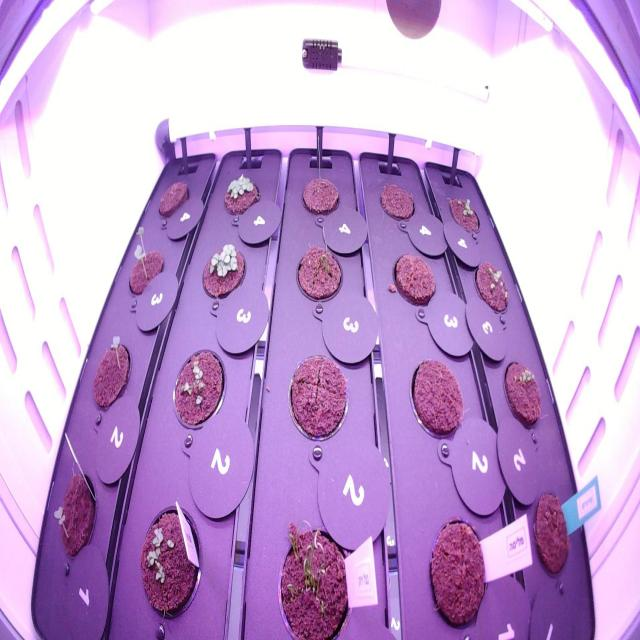germination: (268, 512, 362, 639), (130, 491, 208, 631), (163, 339, 232, 441), (41, 456, 103, 568), (288, 221, 348, 316), (83, 328, 140, 423), (118, 220, 171, 305), (500, 344, 547, 436), (196, 233, 250, 309), (470, 248, 513, 323), (443, 183, 486, 244), (216, 166, 262, 223)
pod: (420, 506, 500, 635), (282, 343, 356, 446), (401, 348, 469, 446), (526, 478, 575, 582), (385, 243, 443, 318), (295, 162, 343, 224), (375, 172, 417, 225), (154, 172, 192, 223)
